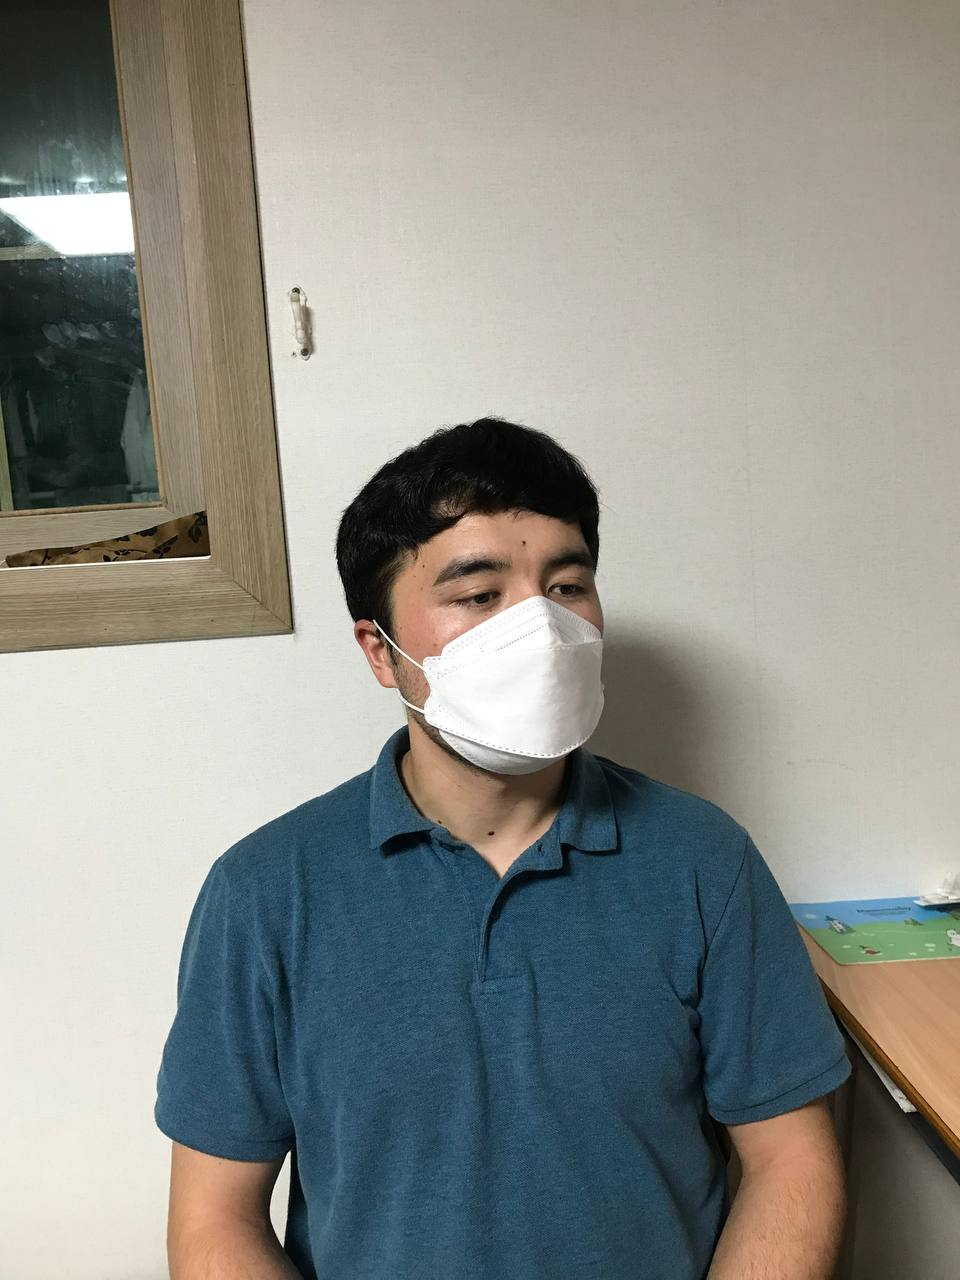Mask: (350, 605, 612, 783)
